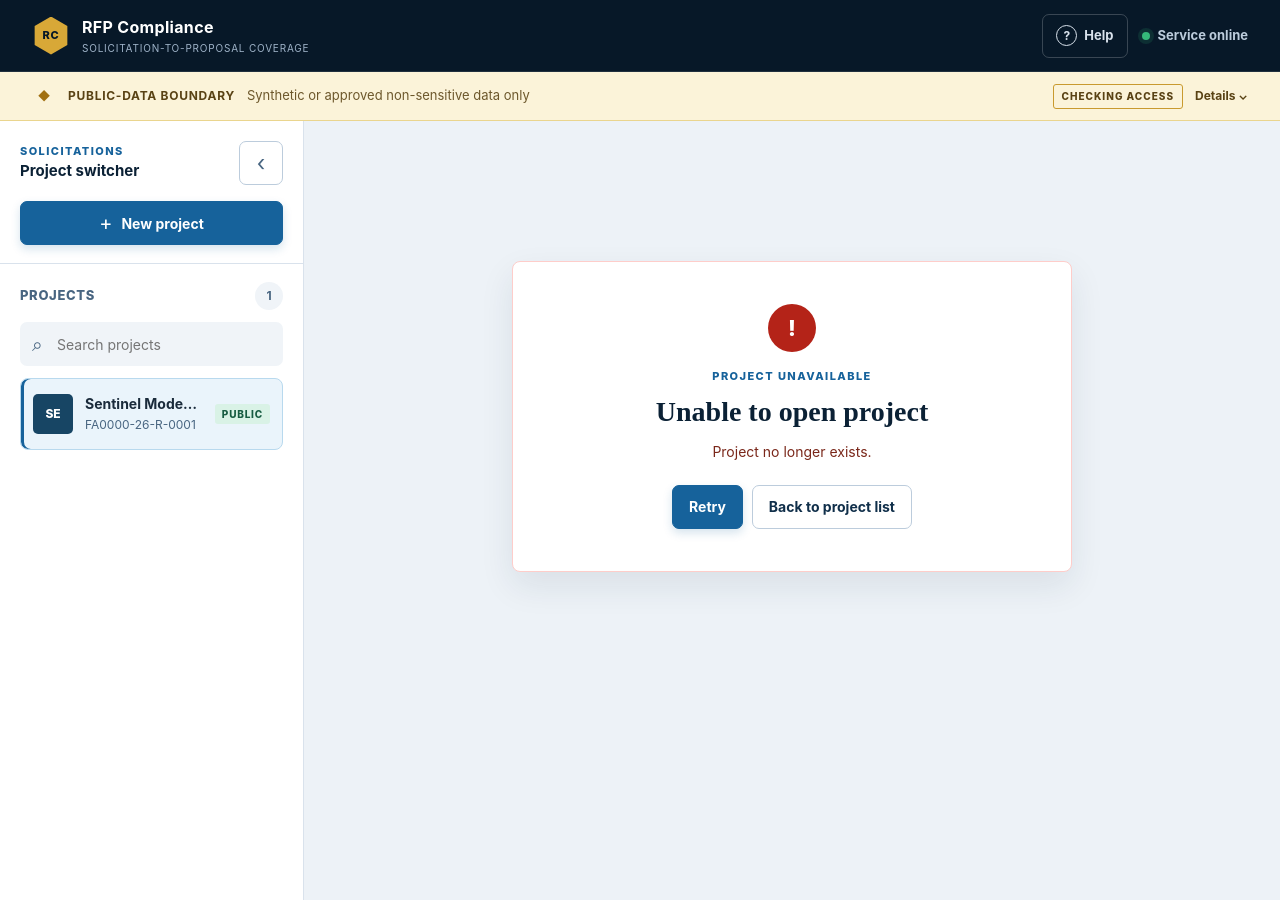
Test case: App › shows a recoverable error when a selected project cannot be loaded
The width and height of the screenshot is (1280, 900).
Expected: the heading "Unable to open project" is shown, [656,396,928,426]
Expected: the message "Project no longer exists." is shown, [712,442,872,460]
Click the button "Retry".
click(707, 507)  # box [672,485,743,529]
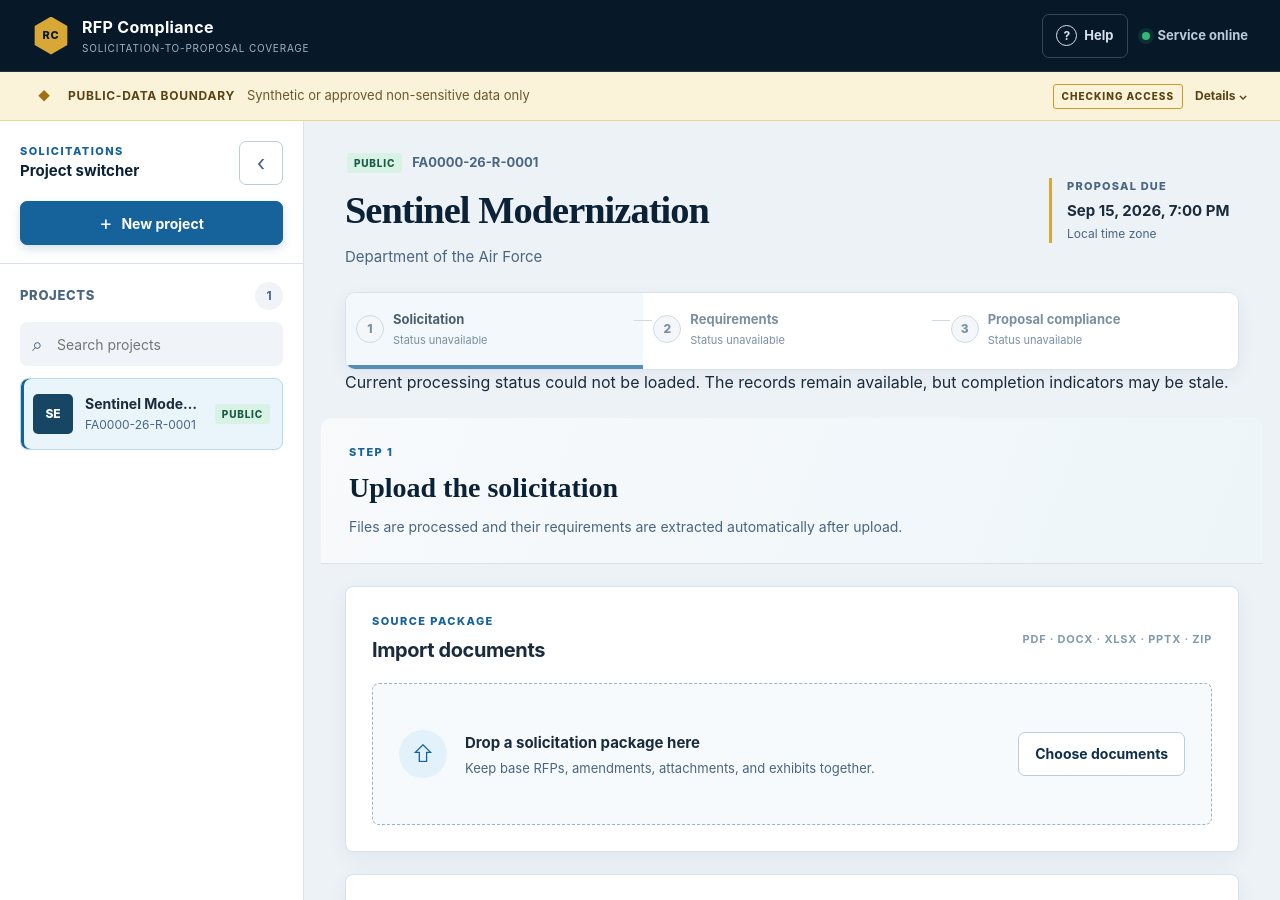
Result: the heading "Sentinel Modernization" is shown at [345,182,709,240]
